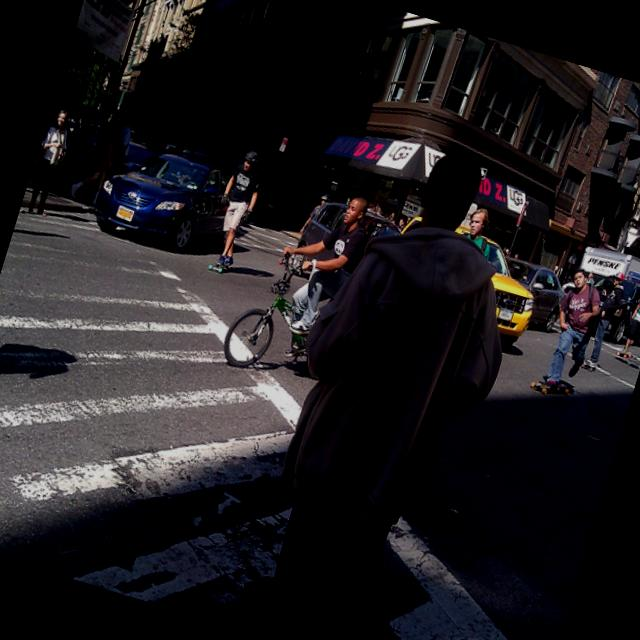Vehicle: (376, 208, 552, 355), (87, 134, 245, 266), (294, 193, 405, 274), (490, 257, 572, 336), (573, 220, 640, 303), (600, 276, 640, 352), (120, 138, 160, 178), (248, 181, 281, 226)
